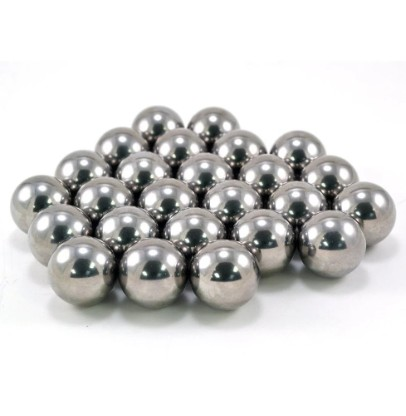ironball: (189, 238, 260, 310), (118, 237, 187, 308), (47, 235, 116, 306), (297, 209, 366, 277), (230, 208, 296, 277), (331, 180, 396, 246), (27, 203, 92, 266), (9, 174, 71, 233), (162, 206, 226, 258), (94, 204, 159, 255), (266, 180, 328, 232), (202, 178, 262, 227), (299, 154, 359, 202), (73, 175, 133, 222), (137, 177, 198, 223), (237, 153, 295, 199), (269, 129, 326, 175), (54, 148, 111, 193), (211, 128, 267, 173), (176, 151, 233, 195), (115, 150, 171, 193), (186, 105, 240, 149), (131, 104, 184, 148), (94, 126, 148, 167), (153, 127, 206, 168)
